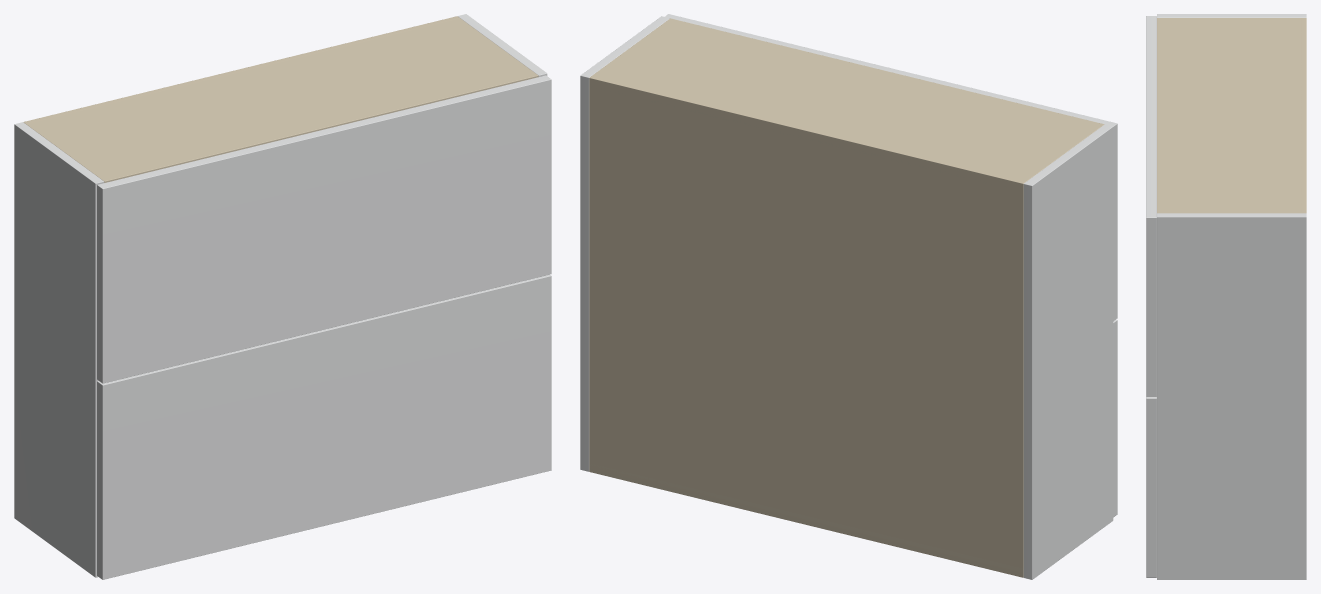
File: oppein-ply-pgw-wbf3630.glb
The picture shows the model from 3 angles, left to right: view 1: azimuth 30°, elevation 25°; view 2: azimuth 150°, elevation 25°; view 3: azimuth 270°, elevation 25°; orthographic projection. The views are drawn at different scales.
Visible parts, largest first — view 1: Door.001, Door, Cabinet top, Cabinet side, Cabinet back, Cabinet side.001; view 2: Cabinet back, Cabinet side, Cabinet top, Cabinet side.001, Cabinet bottom, Door.001, Door; view 3: Cabinet side.001, Cabinet top, Door.001, Door, Cabinet back, Cabinet side.
Part boxes in pixels (box(x1,y1,x2,y2)): Door.001: box(97, 75, 551, 383); Door: box(97, 274, 551, 579); Cabinet top: box(23, 18, 538, 182); Cabinet side: box(14, 122, 104, 577); Cabinet back: box(24, 16, 459, 124); Cabinet side.001: box(458, 14, 547, 76); Cabinet back: box(589, 75, 1025, 577); Cabinet side: box(1023, 124, 1113, 579); Cabinet top: box(589, 18, 1104, 191); Cabinet side.001: box(580, 16, 669, 471); Cabinet bottom: box(589, 464, 1023, 577); Door.001: box(665, 14, 1117, 320); Door: box(1113, 319, 1117, 517); Cabinet side.001: box(1157, 213, 1306, 579); Cabinet top: box(1157, 18, 1306, 213); Door.001: box(1146, 16, 1156, 396); Door: box(1146, 397, 1156, 577); Cabinet back: box(1300, 18, 1306, 213); Cabinet side: box(1157, 14, 1306, 17).
Bounding box in the file's own units: 0.9144 × 0.762 × 0.3048.
